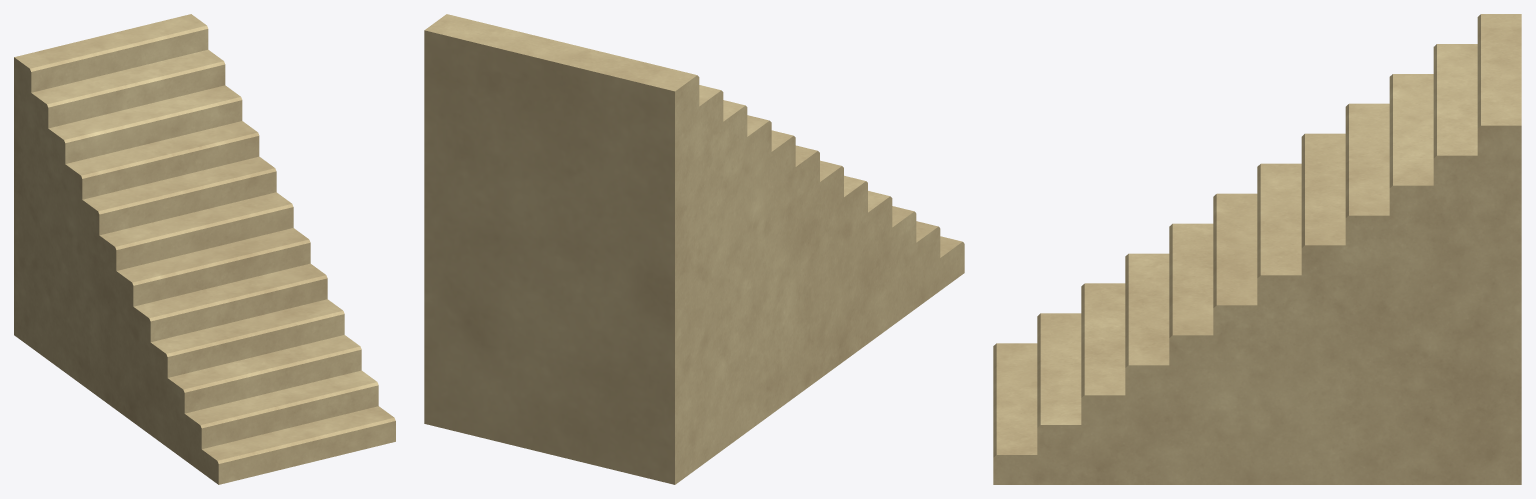
The model's file is sm_stairs.fbx.
The picture shows the model from 3 angles, left to right: view 1: azimuth 30°, elevation 25°; view 2: azimuth 150°, elevation 25°; view 3: azimuth 270°, elevation 25°; orthographic projection. The views are drawn at different scales.
Parts seen in each view (by area): view 1: Stairs; view 2: Stairs; view 3: Stairs.
Part boxes in pixels (x1,y1,x2,y2): Stairs: (14, 14, 395, 484); Stairs: (424, 14, 964, 484); Stairs: (993, 14, 1521, 484).
Size of the model in its own units: 2 by 3 by 4.
